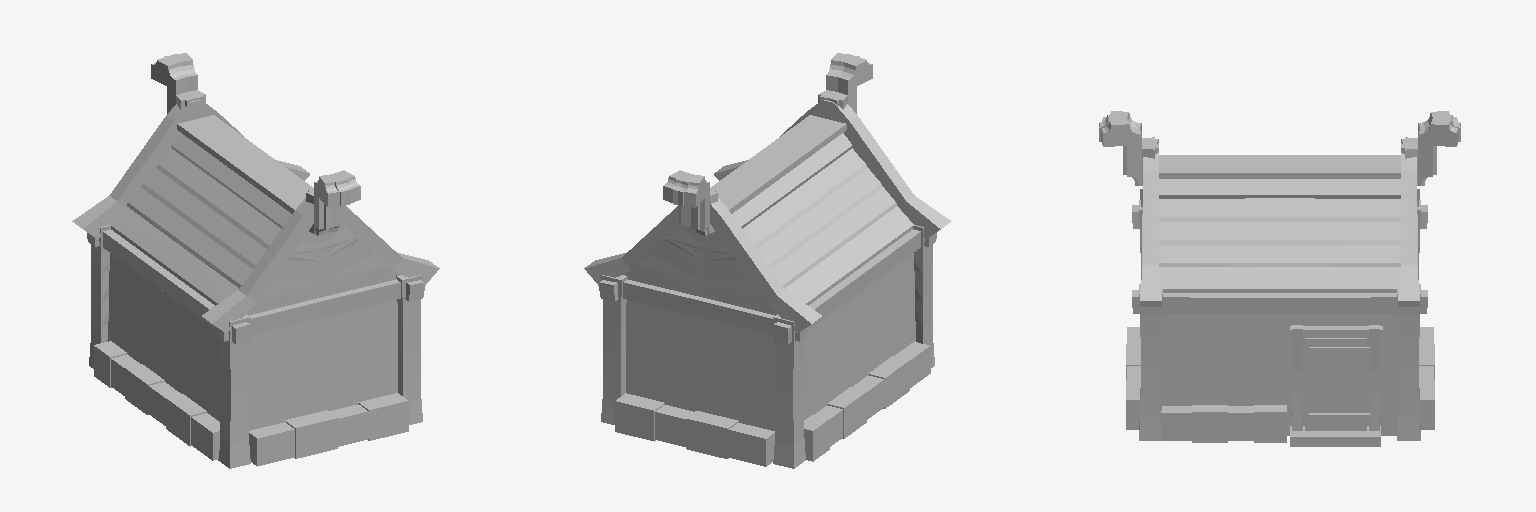
Rendered from casa.obj.
3 views of the same model, side by side, from view 1: azimuth 30°, elevation 25°; view 2: azimuth 150°, elevation 25°; view 3: azimuth 270°, elevation 25° (orthographic).
Parts seen in each view (by area): view 1: Casa_5_Casa_Cubo.028_Cubo.004; view 2: Casa_5_Casa_Cubo.028_Cubo.004; view 3: Casa_5_Casa_Cubo.028_Cubo.004.
Part boxes in pixels (left/top/right/bottom): Casa_5_Casa_Cubo.028_Cubo.004: left=72, top=53, right=439, bottom=468; Casa_5_Casa_Cubo.028_Cubo.004: left=584, top=53, right=951, bottom=468; Casa_5_Casa_Cubo.028_Cubo.004: left=1099, top=111, right=1460, bottom=446.
Size of the model in its own units: 8.31 by 9.62 by 11.42.